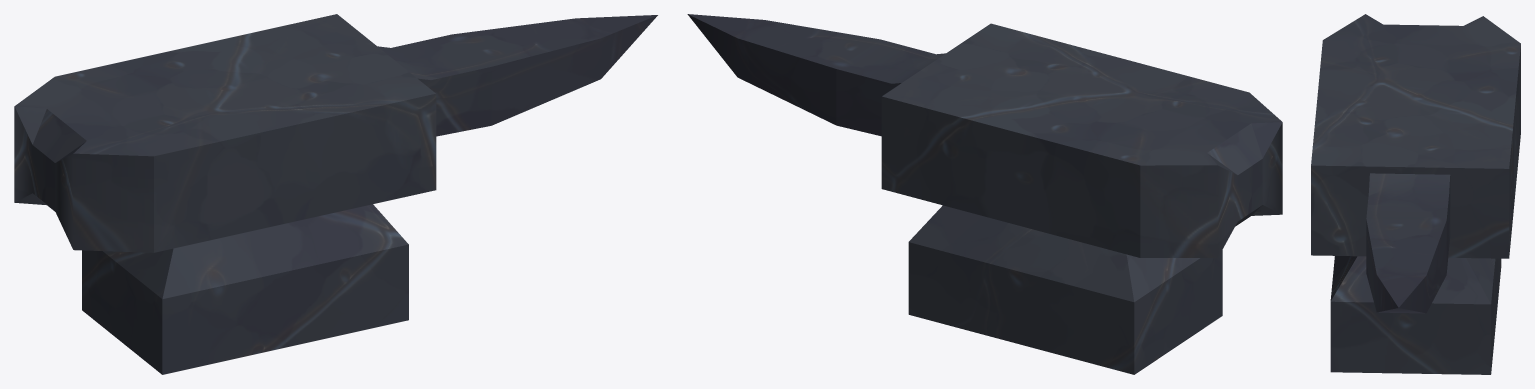
The model's file is Anvil.fbx.
3 renders of one model, left to right at view 1: azimuth 30°, elevation 25°; view 2: azimuth 150°, elevation 25°; view 3: azimuth 270°, elevation 25°, orthographic. The views are drawn at different scales.
Visible parts, largest first — view 1: Anvil; view 2: Anvil; view 3: Anvil.
Boxes of the visible parts, box(x1,y1,x2,y2) form: Anvil: box(14, 14, 657, 374); Anvil: box(687, 14, 1282, 374); Anvil: box(1311, 14, 1520, 374).
Size of the model in its own units: 1.62 by 0.5917 by 0.5254.
